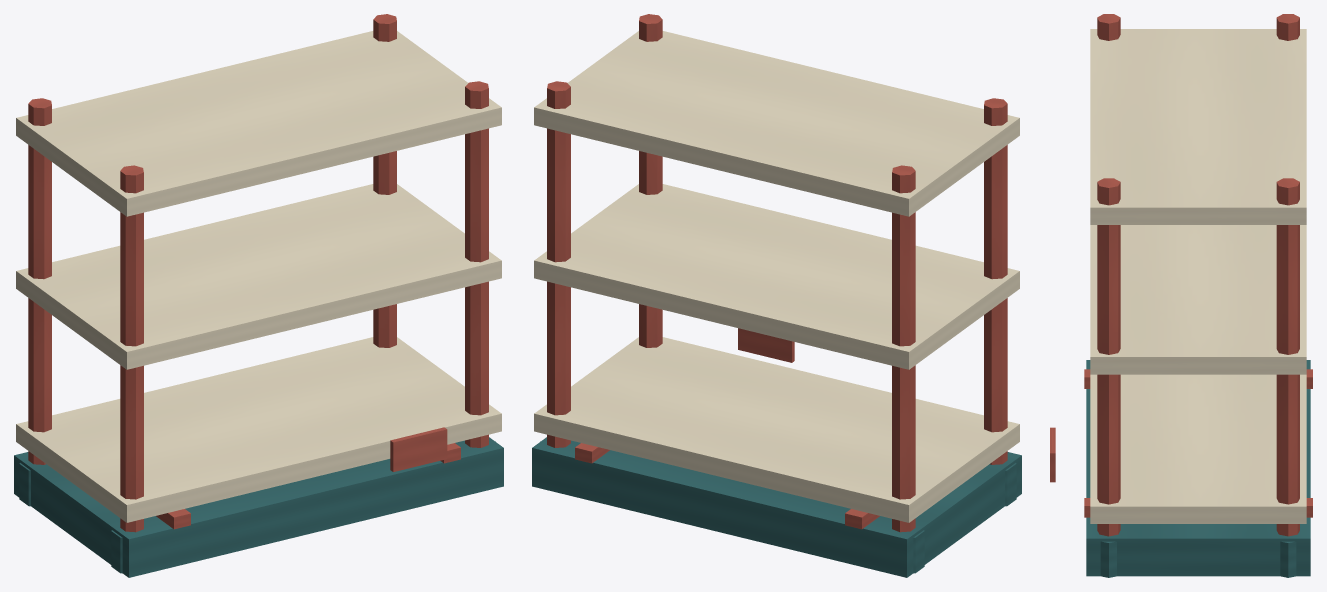
File: atlas100-s035-a06.lod1.glb
3 renders of one model, left to right at view 1: azimuth 30°, elevation 25°; view 2: azimuth 150°, elevation 25°; view 3: azimuth 270°, elevation 25°, orthographic. The views are drawn at different scales.
Parts seen in each view (by area): view 1: atlas100-s035-a06:part-013, atlas100-s035-a06:part-012, atlas100-s035-a06:part-011, atlas100-s035-a06:part-000, atlas100-s035-a06:part-005, atlas100-s035-a06:part-009, atlas100-s035-a06:part-003, atlas100-s035-a06:part-007, atlas100-s035-a06:part-014; view 2: atlas100-s035-a06:part-013, atlas100-s035-a06:part-011, atlas100-s035-a06:part-012, atlas100-s035-a06:part-000, atlas100-s035-a06:part-003, atlas100-s035-a06:part-007, atlas100-s035-a06:part-005, atlas100-s035-a06:part-009, atlas100-s035-a06:part-014; view 3: atlas100-s035-a06:part-013, atlas100-s035-a06:part-012, atlas100-s035-a06:part-011, atlas100-s035-a06:part-000, atlas100-s035-a06:part-009, atlas100-s035-a06:part-007, atlas100-s035-a06:part-008, atlas100-s035-a06:part-010, atlas100-s035-a06:part-005, atlas100-s035-a06:part-003.
Part boxes in pixels (<box>): atlas100-s035-a06:part-013: <box>16,31,501,216</box>; atlas100-s035-a06:part-012: <box>16,184,501,369</box>; atlas100-s035-a06:part-011: <box>16,337,501,522</box>; atlas100-s035-a06:part-000: <box>14,437,503,577</box>; atlas100-s035-a06:part-005: <box>120,165,143,532</box>; atlas100-s035-a06:part-009: <box>465,81,488,447</box>; atlas100-s035-a06:part-003: <box>28,98,51,464</box>; atlas100-s035-a06:part-007: <box>373,14,396,347</box>; atlas100-s035-a06:part-014: <box>390,427,447,471</box>; atlas100-s035-a06:part-013: <box>534,31,1019,216</box>; atlas100-s035-a06:part-011: <box>534,337,1019,522</box>; atlas100-s035-a06:part-012: <box>534,184,1019,369</box>; atlas100-s035-a06:part-000: <box>532,437,1021,577</box>; atlas100-s035-a06:part-003: <box>892,165,915,532</box>; atlas100-s035-a06:part-007: <box>547,81,570,447</box>; atlas100-s035-a06:part-005: <box>984,98,1007,464</box>; atlas100-s035-a06:part-009: <box>639,14,662,347</box>; atlas100-s035-a06:part-014: <box>738,328,794,362</box>; atlas100-s035-a06:part-013: <box>1090,29,1306,224</box>; atlas100-s035-a06:part-012: <box>1090,225,1306,374</box>; atlas100-s035-a06:part-011: <box>1090,374,1306,523</box>; atlas100-s035-a06:part-000: <box>1086,360,1310,576</box>; atlas100-s035-a06:part-009: <box>1097,178,1120,536</box>; atlas100-s035-a06:part-007: <box>1276,178,1299,536</box>; atlas100-s035-a06:part-008: <box>1280,541,1296,577</box>; atlas100-s035-a06:part-010: <box>1100,541,1116,577</box>; atlas100-s035-a06:part-005: <box>1097,14,1120,40</box>; atlas100-s035-a06:part-003: <box>1276,14,1299,40</box>.
Size of the model in its own units: 2.68 by 2.66 by 1.64.
Materials: 3 (3 with a texture image).
